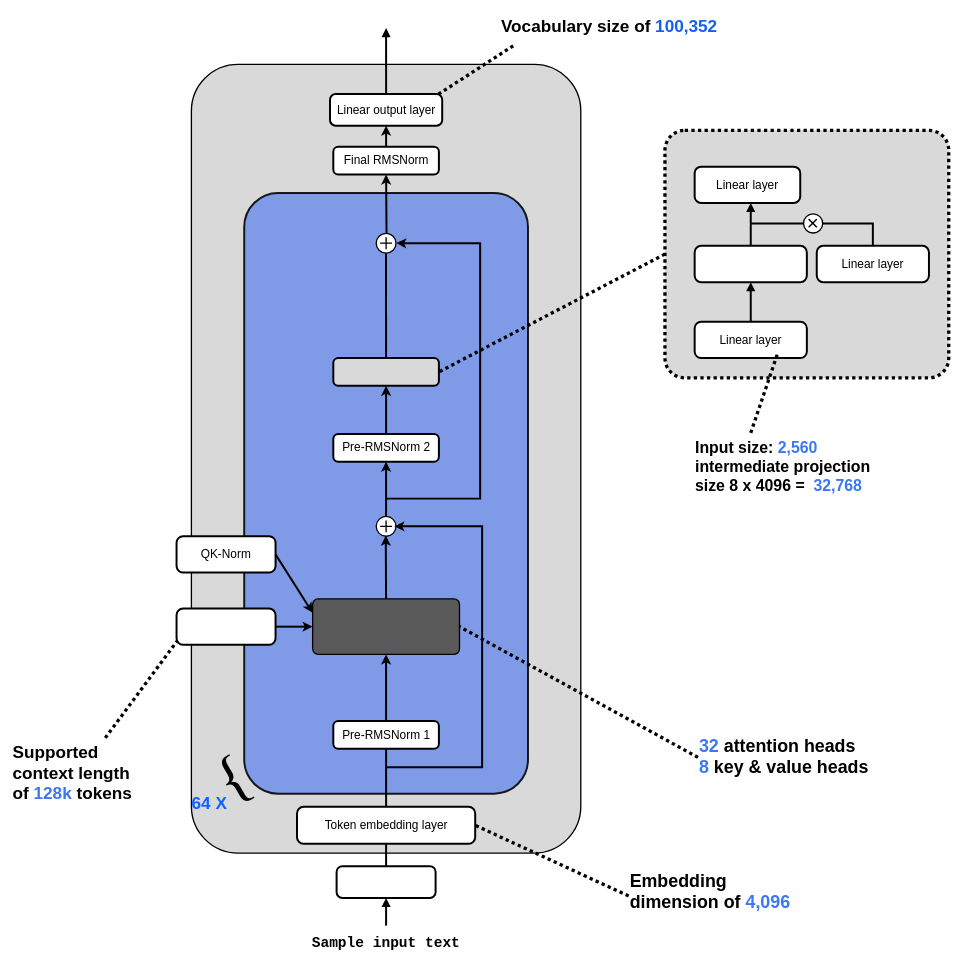
Image size: 962x970. Some labels were removed from this diagram. Each missing label, with the centre of its shape:
Feed forward: [386,371]
Grouped-query attention: [386,626]
RoPE: [225,626]
SiLU activation: [750,264]
Tokenized text: [385,882]
